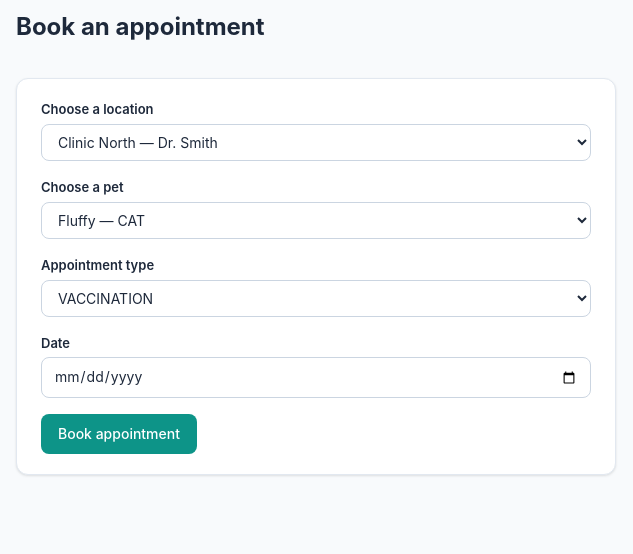
Test: AppointmentBookingPage › shows error when no slot has been chosen
Click the button "Book appointment" at (119, 434), box 41,414 -> 197,454
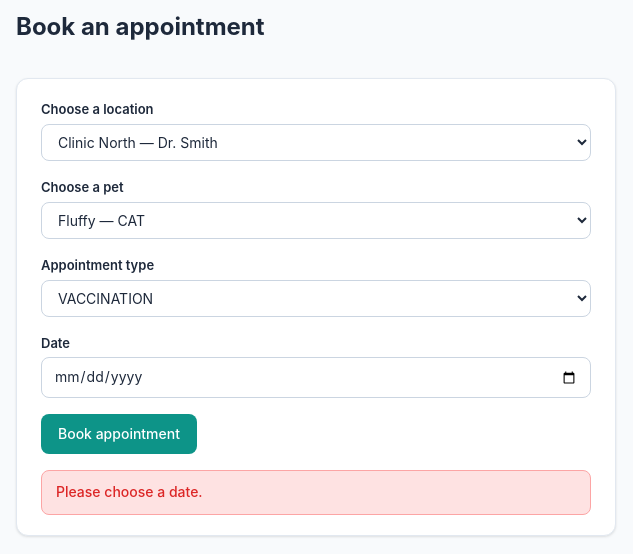
Expected: the text "Please choose a date." is shown, 41,470 -> 591,515
